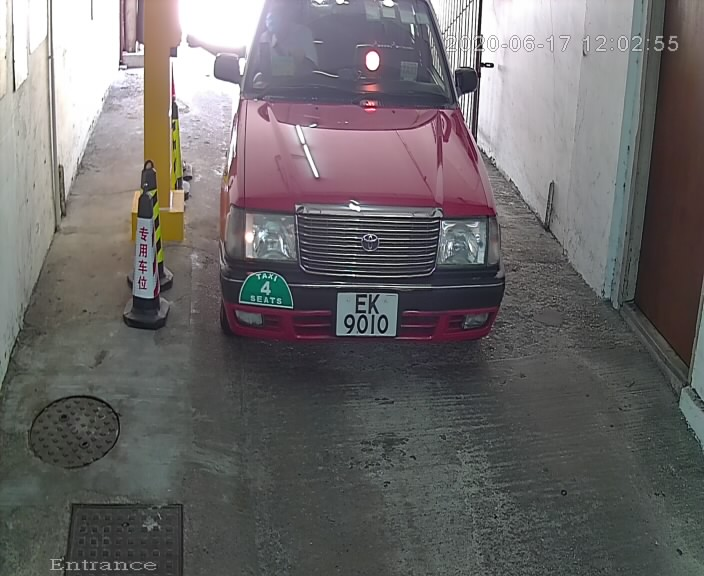taxi: (191, 2, 530, 379)
taxi_mark: (233, 268, 303, 313)
